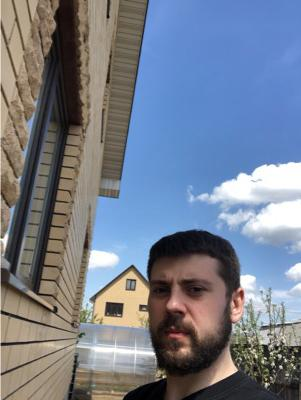without_mask: (147, 270, 216, 373)
